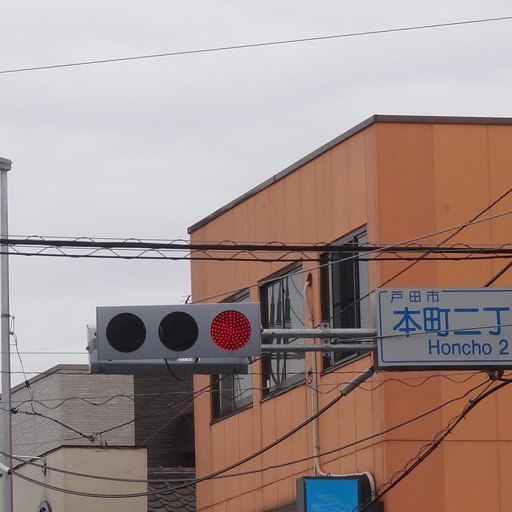Traffic_Signal_Red: (97, 300, 258, 367)
